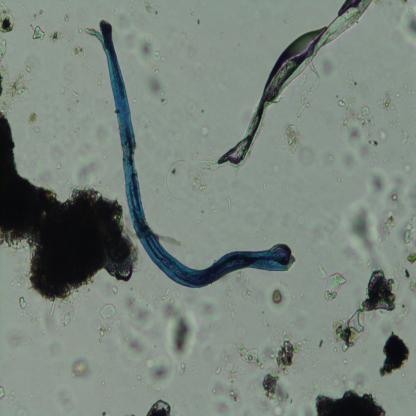Background material: (0, 104, 140, 300), (121, 294, 197, 384), (332, 266, 399, 349), (257, 332, 309, 402), (333, 98, 373, 168), (0, 42, 38, 112), (213, 344, 260, 400), (344, 200, 392, 252), (312, 385, 388, 415), (369, 168, 408, 212), (56, 76, 84, 136), (182, 92, 208, 152), (380, 330, 411, 376), (158, 157, 190, 201), (401, 217, 416, 296), (318, 265, 348, 301), (44, 297, 77, 329), (178, 24, 206, 61), (202, 297, 222, 338), (144, 72, 168, 104), (134, 34, 154, 70), (399, 5, 416, 46), (21, 109, 45, 138), (190, 162, 212, 193), (282, 123, 302, 156), (1, 330, 31, 352), (328, 370, 366, 387), (316, 52, 340, 78), (307, 212, 329, 240), (112, 6, 134, 34), (56, 390, 81, 414), (223, 285, 240, 320), (233, 270, 252, 300), (30, 25, 60, 44), (146, 395, 176, 414), (390, 118, 410, 144), (268, 287, 288, 311), (99, 300, 119, 324), (0, 5, 15, 34), (72, 355, 90, 379), (378, 92, 398, 112), (300, 152, 321, 166), (91, 326, 112, 340), (143, 0, 157, 17), (49, 157, 61, 175), (31, 8, 48, 20), (49, 342, 66, 354), (72, 45, 85, 59), (379, 130, 391, 144), (314, 338, 326, 352), (61, 18, 72, 32), (0, 379, 6, 403), (18, 293, 25, 311), (224, 195, 231, 210)
Cellulose filter fibre: (211, 0, 372, 171)
Cotton: (89, 16, 294, 290)
